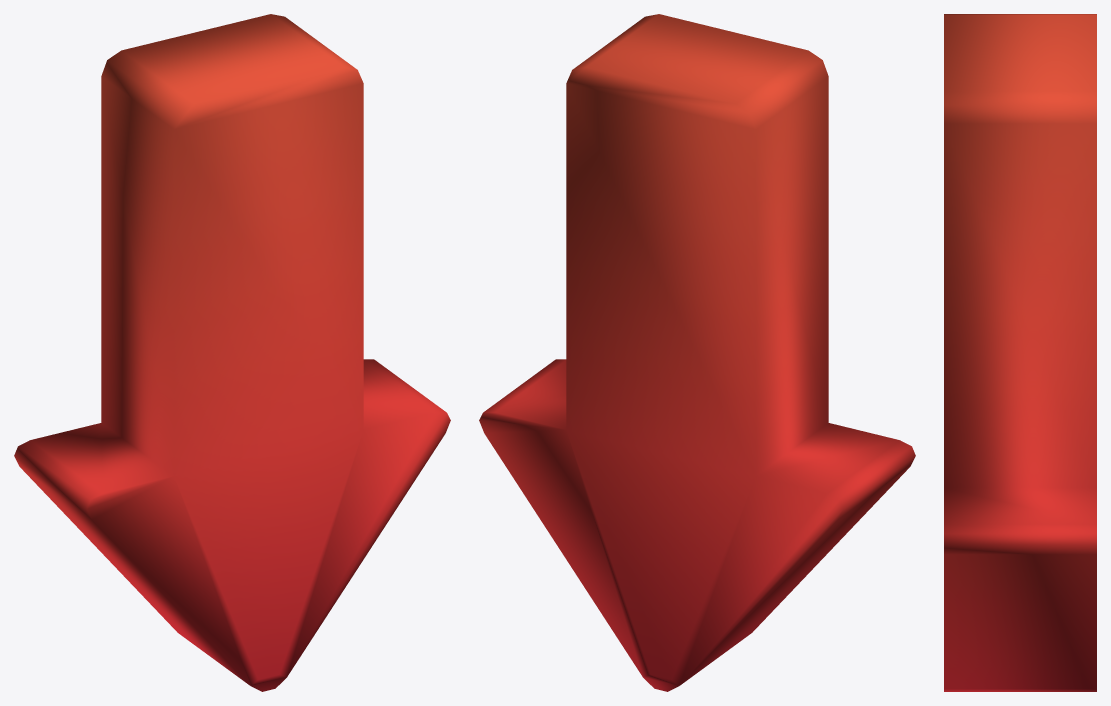
Rendered from arrow.fbx.
3 views of the same model, side by side, from view 1: azimuth 30°, elevation 25°; view 2: azimuth 150°, elevation 25°; view 3: azimuth 270°, elevation 25° (orthographic). The views are drawn at different scales.
Parts seen in each view (by area): view 1: arrow; view 2: arrow; view 3: arrow.
Part boxes in pixels (x1=…): arrow: x1=14, y1=14, x2=450, y2=691; arrow: x1=479, y1=14, x2=915, y2=691; arrow: x1=944, y1=14, x2=1096, y2=691.
Size of the model in its own units: 156 by 248 by 54.11.
